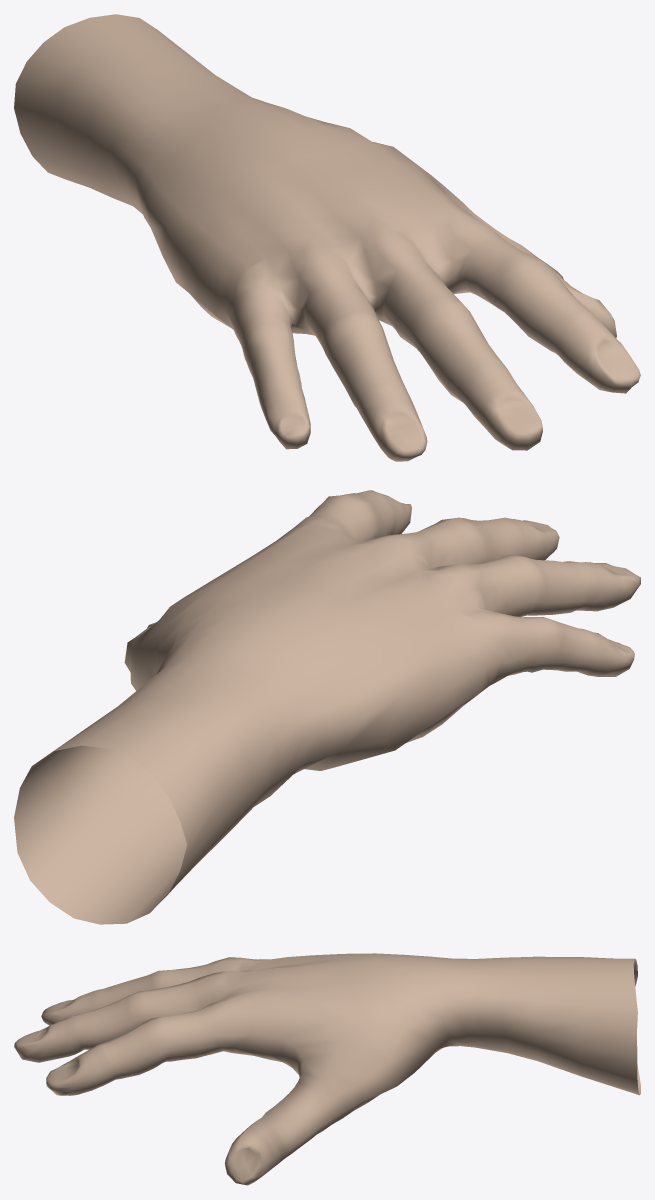
File: right_hand.fbx
3 views of the same model, one above another, from view 1: azimuth 30°, elevation 25°; view 2: azimuth 150°, elevation 25°; view 3: azimuth 270°, elevation 25° (orthographic). The views are drawn at different scales.
Visible parts, largest first — view 1: right_hand; view 2: right_hand; view 3: right_hand.
Boxes of the visible parts, x1=… form: right_hand: x1=14, y1=14, x2=640, y2=461; right_hand: x1=14, y1=490, x2=640, y2=924; right_hand: x1=14, y1=953, x2=640, y2=1185.
Size of the model in its own units: 136 by 64.11 by 254.
